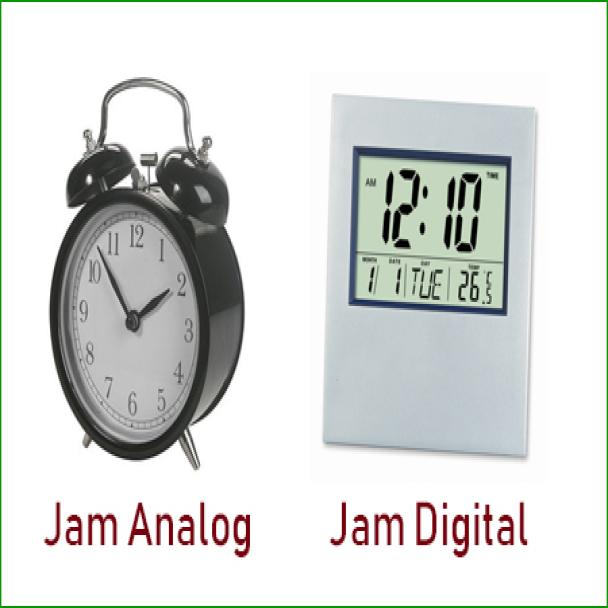Jam: (56, 193, 209, 460), (348, 133, 512, 314)
